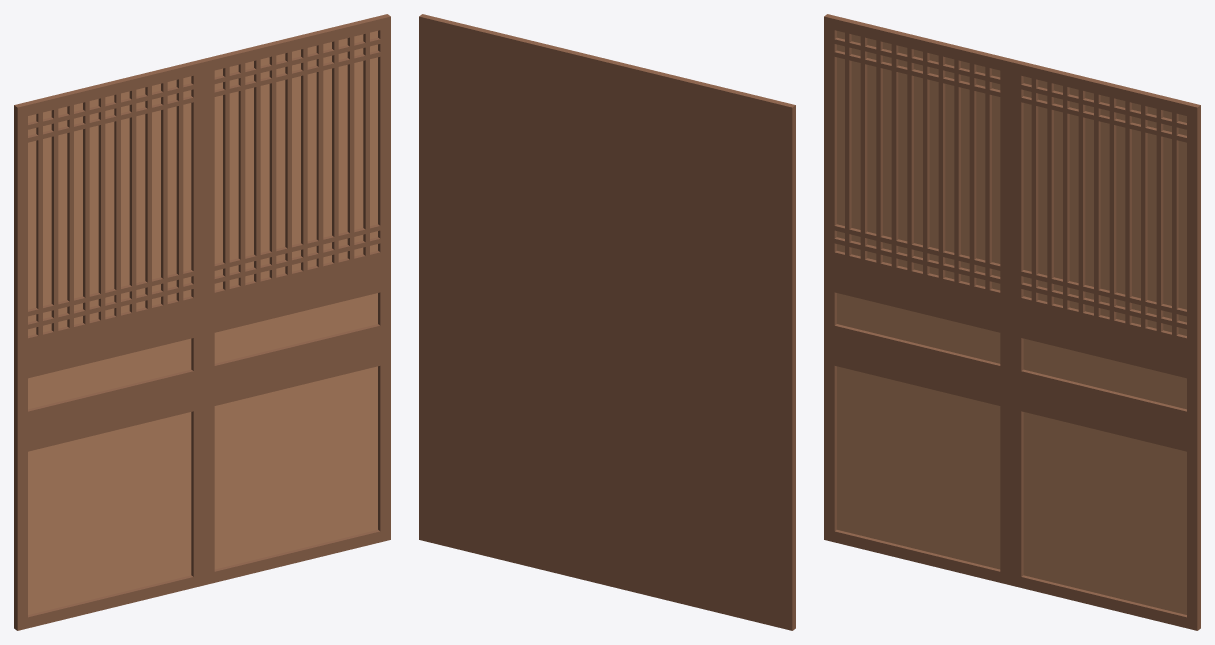
Rendered from door.fbx.
3 renders of one model, left to right at view 1: azimuth 30°, elevation 25°; view 2: azimuth 150°, elevation 25°; view 3: azimuth 330°, elevation 25°, orthographic.
Parts seen in each view (by area): view 1: door; view 2: door; view 3: door.
Boxes of the visible parts, x1=… form: door: x1=14, y1=14, x2=390, y2=630; door: x1=419, y1=14, x2=795, y2=630; door: x1=824, y1=14, x2=1200, y2=630.
Bounding box in the file's own units: 916 × 1227 × 14.67.
